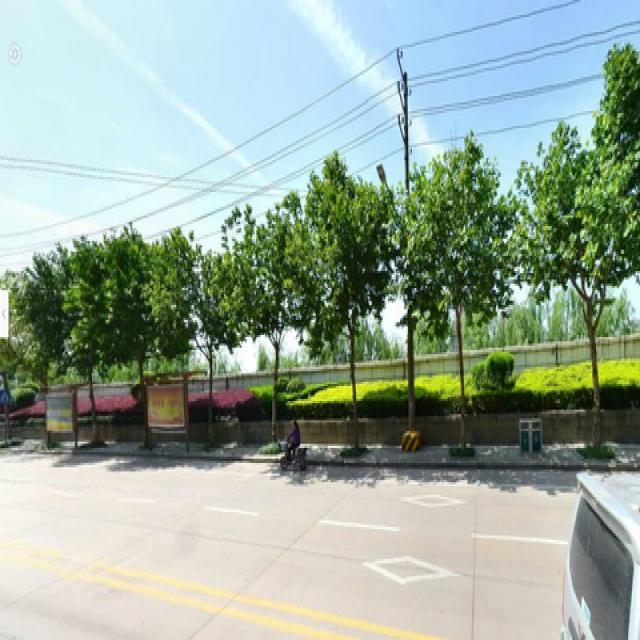meta: (406, 154, 502, 416), (308, 160, 391, 448), (535, 164, 629, 414), (233, 230, 292, 420), (186, 252, 233, 424)
